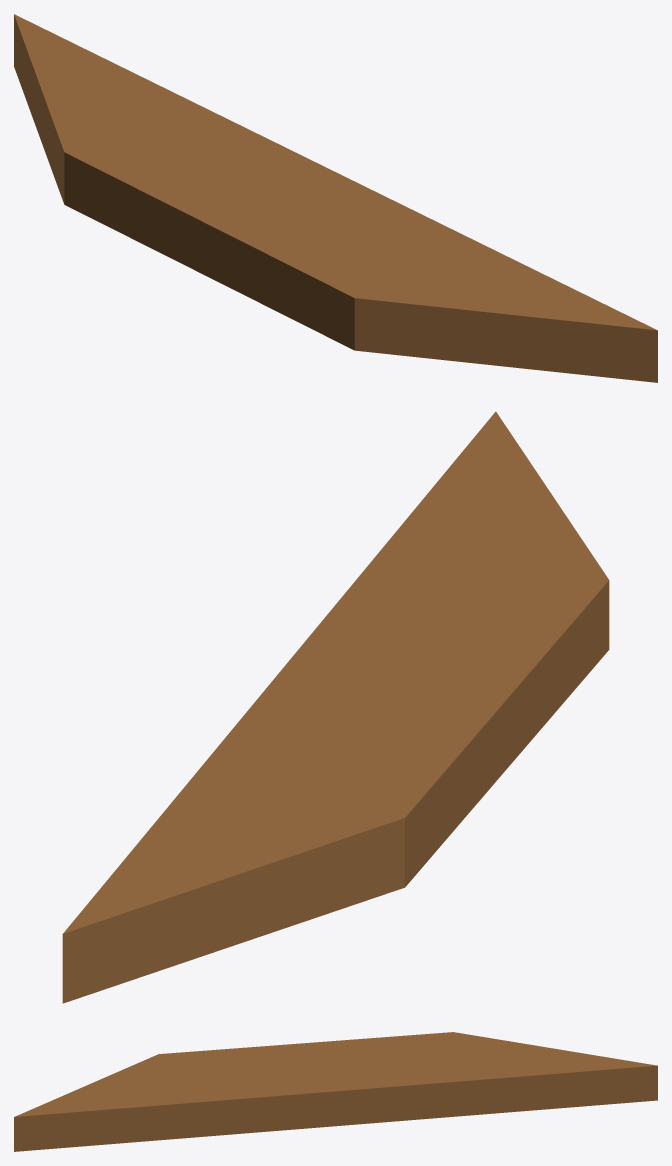
File: x_proval_00_251_1_rmstrd.fbx
3 renders of one model, top to bottom at view 1: azimuth 30°, elevation 25°; view 2: azimuth 150°, elevation 25°; view 3: azimuth 270°, elevation 25°, orthographic. The views are drawn at different scales.
Visible parts, largest first — view 1: x_proval_00_251_1_rmstrd1; view 2: x_proval_00_251_1_rmstrd1; view 3: x_proval_00_251_1_rmstrd1.
Boxes of the visible parts, x1,y1,x2,y2 form: x_proval_00_251_1_rmstrd1: [14, 14, 657, 382]; x_proval_00_251_1_rmstrd1: [62, 411, 609, 1003]; x_proval_00_251_1_rmstrd1: [14, 1032, 657, 1151].
Bounding box in the file's own units: 1.05 × 0.2 × 3.35.
